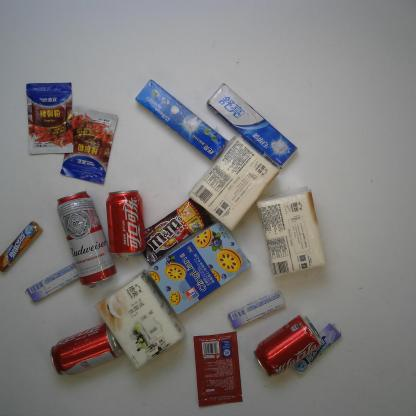Alcohol: (56, 190, 117, 289)
Candy: (292, 323, 342, 375), (0, 221, 43, 272), (25, 262, 79, 302), (228, 292, 285, 329)
Chocolate: (142, 198, 214, 264)
Dessert: (146, 221, 252, 315)
Drink: (254, 314, 322, 378), (50, 323, 121, 375), (106, 190, 146, 258)
Personal Hygiene: (206, 83, 298, 169), (135, 79, 229, 161)
Seasoner: (60, 105, 118, 184), (192, 331, 243, 407), (26, 83, 73, 154)
Tissue: (94, 270, 185, 370), (188, 134, 280, 232), (256, 192, 327, 276)
